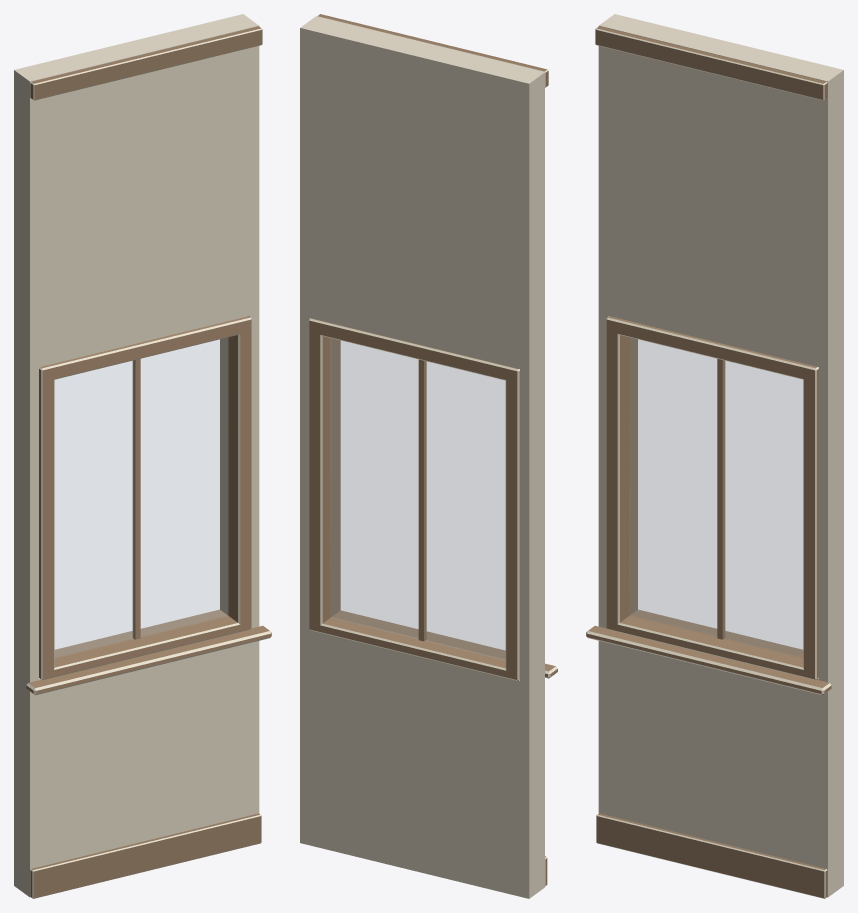
File: muro_ventana_340.glb
The picture shows the model from 3 angles, left to right: view 1: azimuth 30°, elevation 25°; view 2: azimuth 150°, elevation 25°; view 3: azimuth 330°, elevation 25°; orthographic projection.
Parts seen in each view (by area): view 1: muro_ventana_340; view 2: muro_ventana_340; view 3: muro_ventana_340.
Boxes of the visible parts, x1,y1,x2,y2 form: muro_ventana_340: [14, 14, 271, 898]; muro_ventana_340: [300, 14, 557, 898]; muro_ventana_340: [586, 14, 843, 898].
Bounding box in the file's own units: 1.04 × 3.4 × 0.2.
